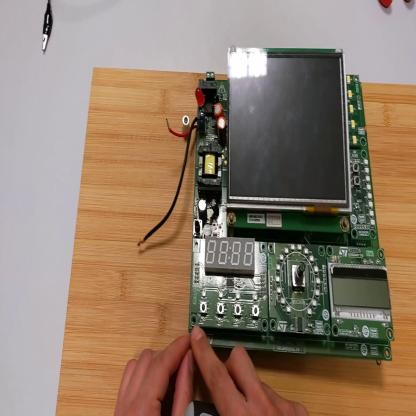hand: (193, 326, 306, 412), (115, 331, 195, 411)
low voltage board: (136, 45, 395, 363)
pliers: (379, 1, 395, 10)
working area: (56, 65, 416, 415)
